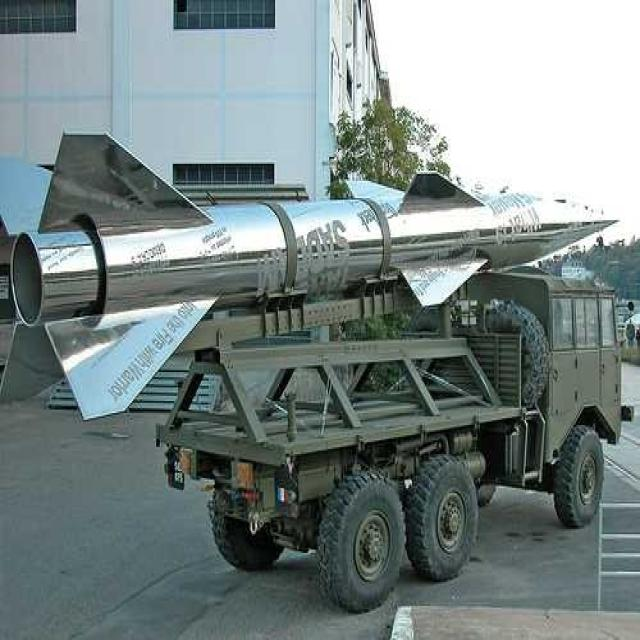missile: (0, 134, 614, 422)
